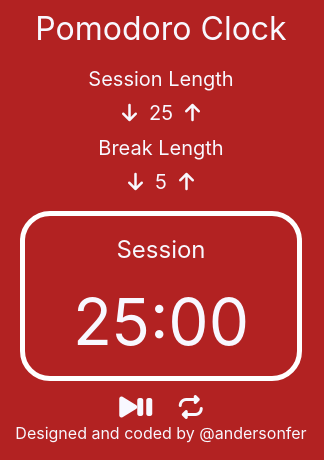
Test: Tests for the SessionSetup component › should decrement the session length when clicked
The image size is (324, 460).
Click the button named "Decrement session length" at (130, 114), box [116, 101, 143, 126]
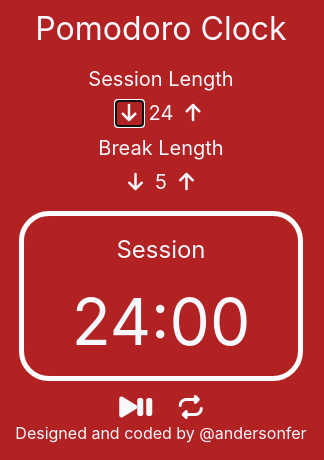
Expected: the text titled "Session length in minutes" reads "24", [149, 101, 173, 125]
